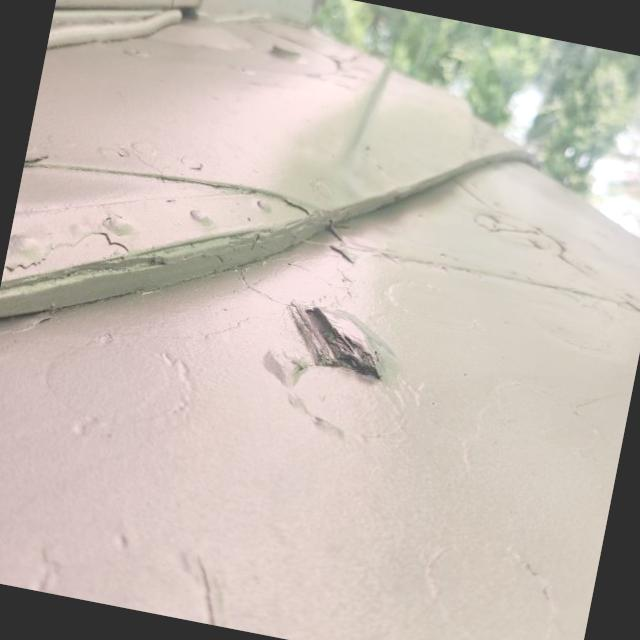paint-off: (264, 286, 404, 401)
